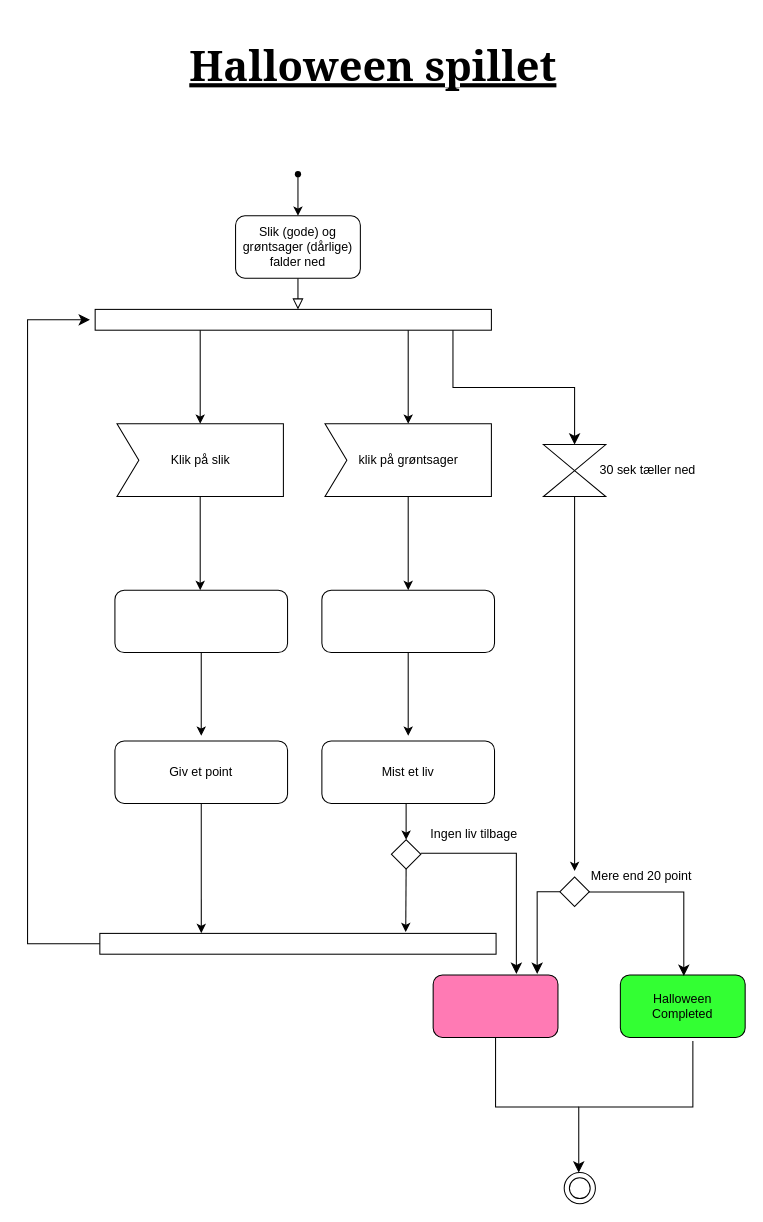
The diagram is 763 pixels wide and 1222 high, and some of its shapes have lost their labels. Here are the shapes that lost their labels. From the top down, the centre of each, then its label:
(x=201, y=621): slik fader ud til lyden af: "mmmnnn"
(x=408, y=621): Grøntsag pulserer med "kast-op" lyd
(x=495, y=1005): GAME OVER
